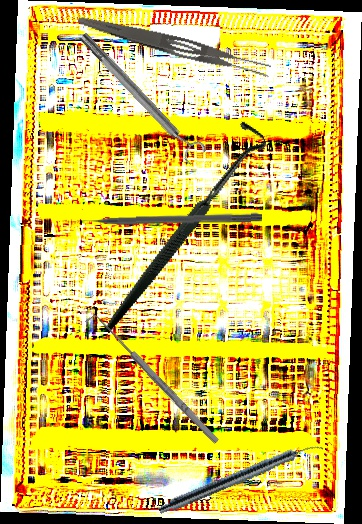Dressing Forceps: (75, 12, 273, 81)
Fixation Ring: (73, 25, 209, 168)
Handpiece: (156, 436, 325, 520)
Hook Surgical: (50, 114, 312, 335), (83, 308, 223, 451)
Pusher: (67, 211, 263, 226)
